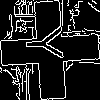Y: (25, 25, 73, 62)
